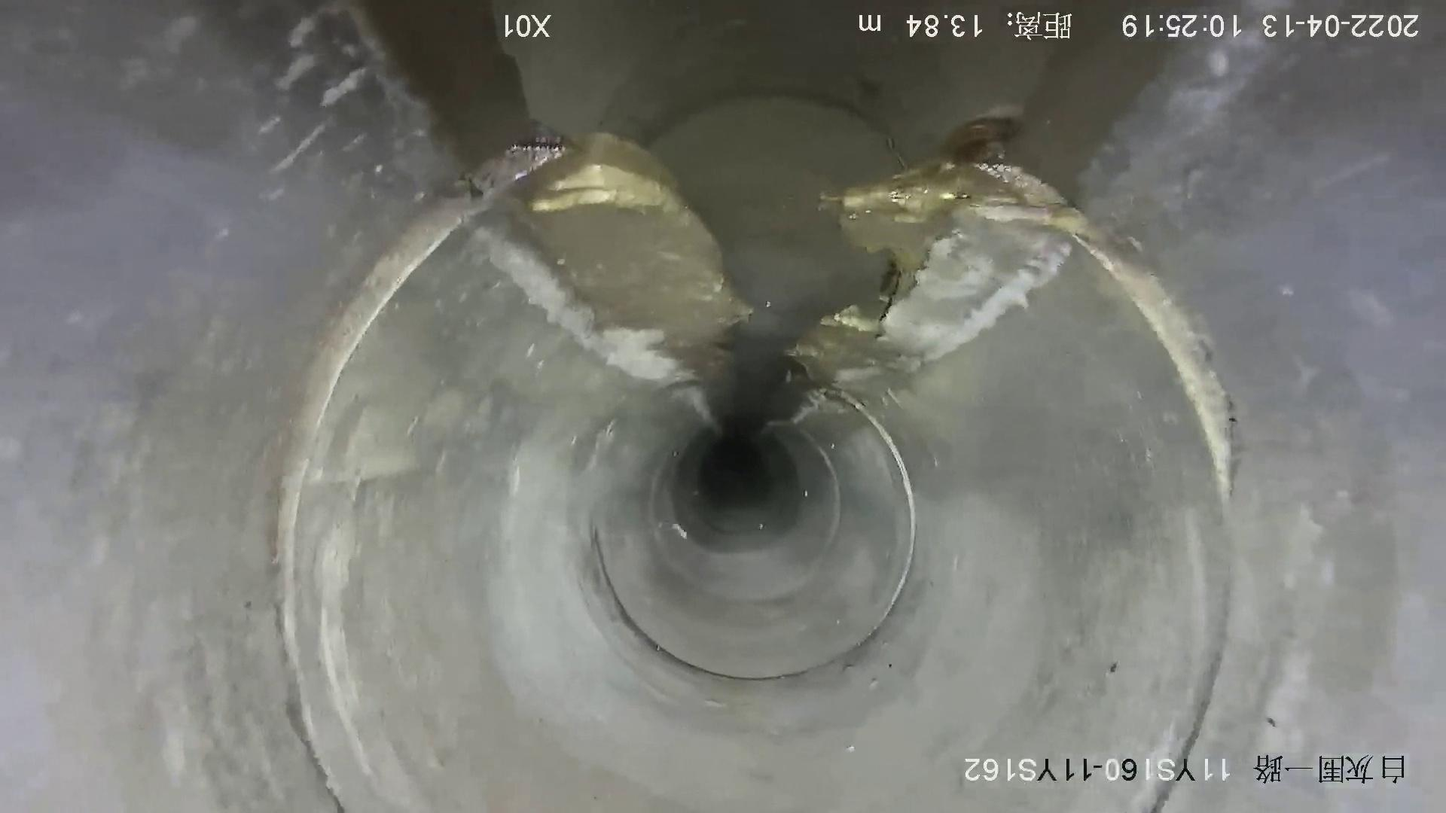CKTJ: (273, 145, 566, 644), (1006, 167, 1234, 503), (815, 387, 917, 622)
JG: (794, 126, 1083, 380), (508, 135, 753, 382)
